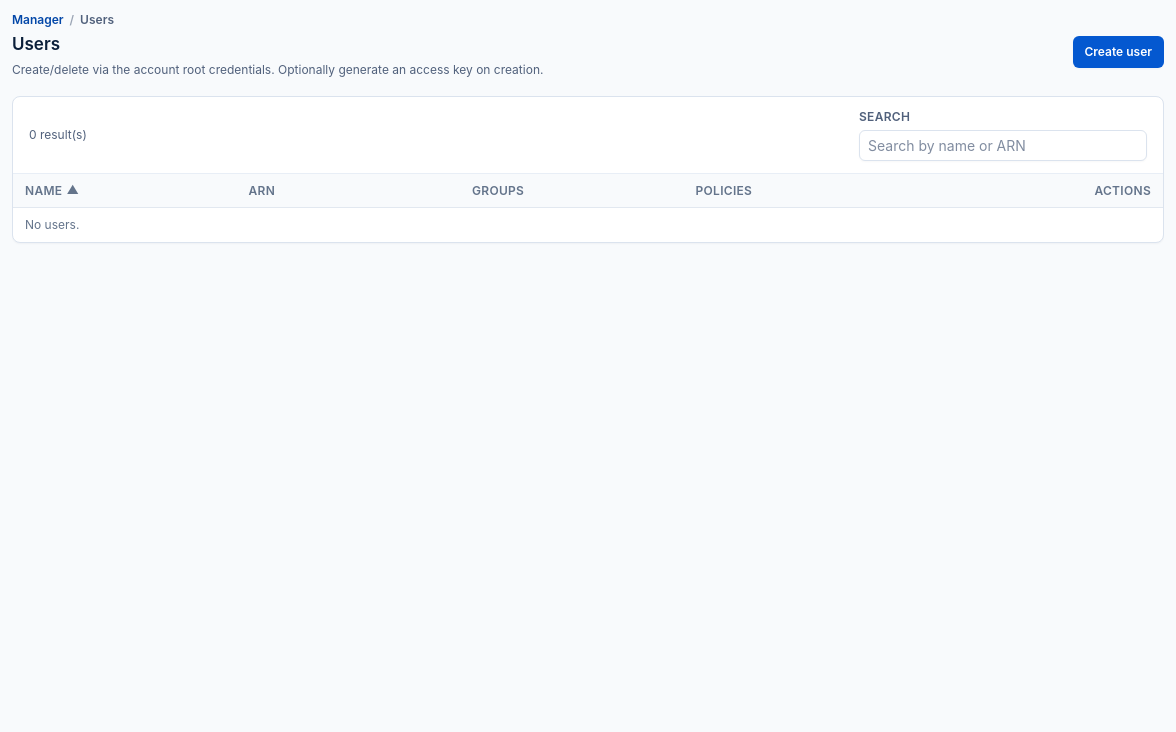
ManagerUsersPage › renders a single attach policies section in the create user modal
The width and height of the screenshot is (1176, 732).
Click the button "Create user": click(1118, 52) [1072,36,1164,68]
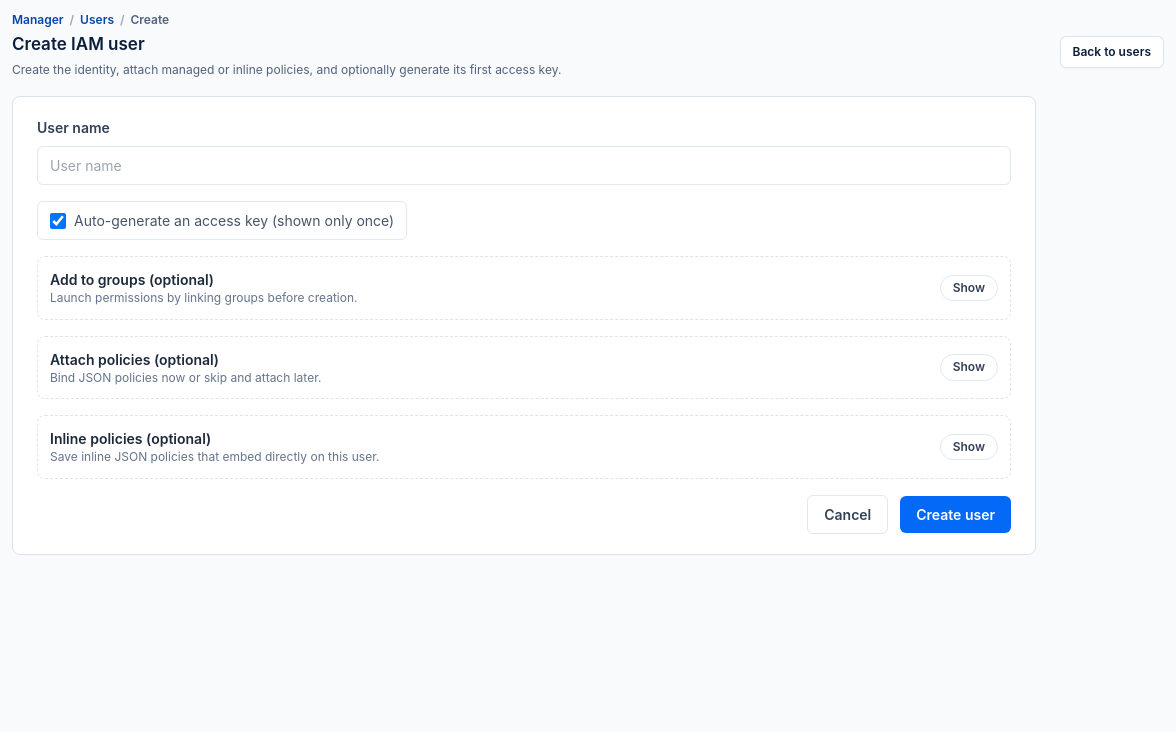
Check: the text "Attach policies (optional)" is shown once, box [50,350,219,368]
